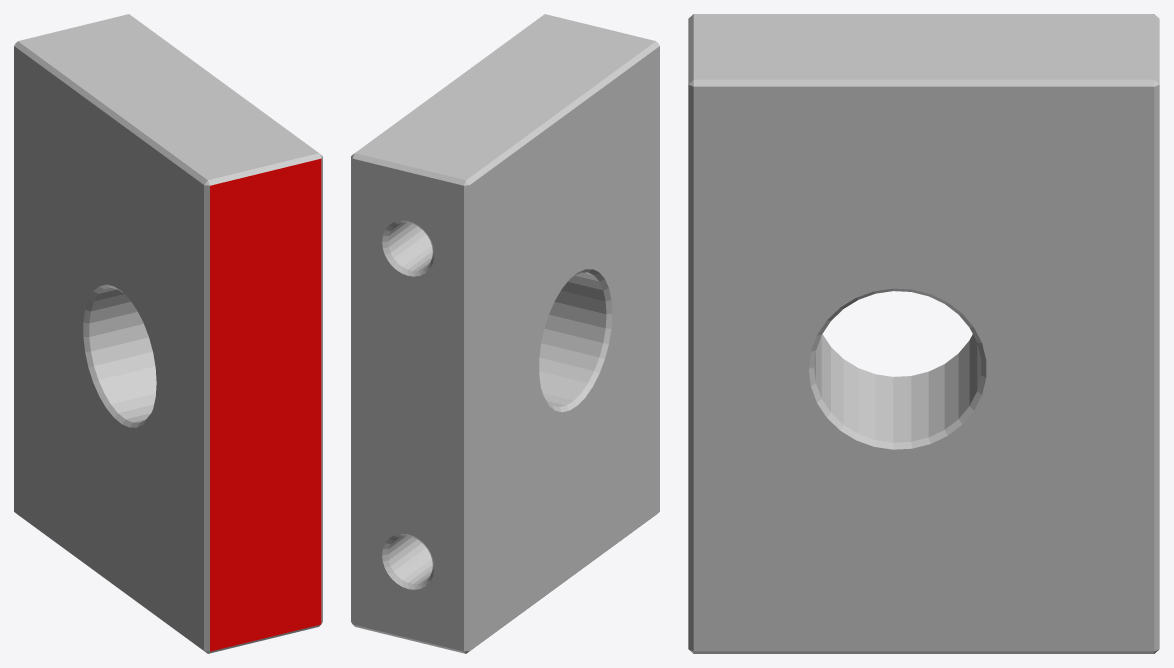
The model's file is 11_stp_1.obj.
3 renders of one model, left to right at view 1: azimuth 30°, elevation 25°; view 2: azimuth 150°, elevation 25°; view 3: azimuth 270°, elevation 25°, orthographic. The views are drawn at different scales.
Parts seen in each view (by area): view 1: Object1; view 2: Object1; view 3: Object1.
Boxes of the visible parts, x1,y1,x2,y2 form: Object1: (14, 14, 322, 653); Object1: (351, 14, 659, 653); Object1: (688, 14, 1159, 653).
Bounding box in the file's own units: 15.88 × 60.5 × 45.
